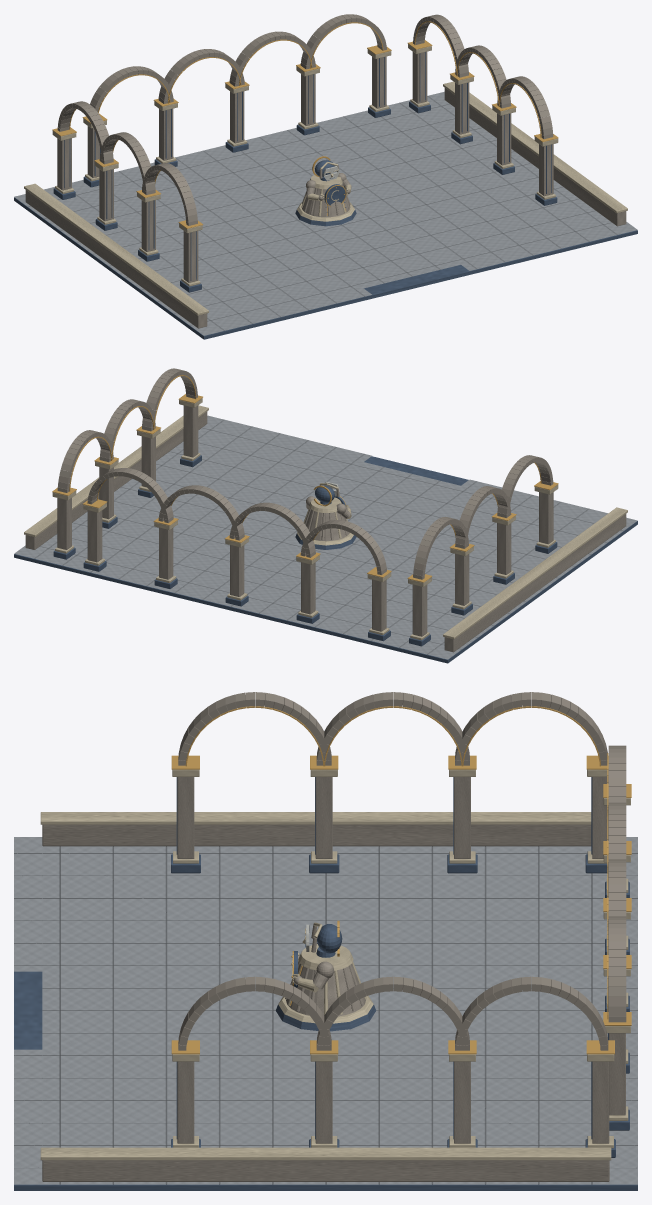
Rendered from moon-sanctum-v01.glb.
The picture shows the model from 3 angles, top to bottom: view 1: azimuth 30°, elevation 25°; view 2: azimuth 150°, elevation 25°; view 3: azimuth 270°, elevation 25°; orthographic projection. The views are drawn at different scales.
Parts seen in each view (by area): view 1: LunarFloor Lunar floor, LunarArcade Lunar stone, LunarArcade Lunar pale, LunarFloor Lunar recess, LunarArcade Lunar recess, LunarArcade Lunar brass, MoonGuardian Lunar stone, MoonGuardian Lunar pale, MoonGuardian Lunar recess; view 2: LunarFloor Lunar floor, LunarArcade Lunar stone, LunarArcade Lunar pale, LunarFloor Lunar recess, LunarArcade Lunar brass, LunarArcade Lunar recess, MoonGuardian Lunar stone, MoonGuardian Lunar pale, MoonGuardian Lunar recess; view 3: LunarFloor Lunar floor, LunarArcade Lunar stone, LunarArcade Lunar pale, LunarFloor Lunar recess, LunarArcade Lunar brass, LunarArcade Lunar recess, MoonGuardian Lunar pale, MoonGuardian Lunar stone, MoonGuardian Lunar recess.
Boxes of the visible parts, <box> form: LunarFloor Lunar floor: <box>14,91,637,335</box>; LunarArcade Lunar stone: <box>25,14,626,328</box>; LunarArcade Lunar pale: <box>24,44,627,315</box>; LunarFloor Lunar recess: <box>14,197,637,339</box>; LunarArcade Lunar recess: <box>53,52,557,292</box>; LunarArcade Lunar brass: <box>52,21,558,228</box>; MoonGuardian Lunar stone: <box>302,165,350,217</box>; MoonGuardian Lunar pale: <box>297,162,354,221</box>; MoonGuardian Lunar recess: <box>295,160,356,226</box>; LunarFloor Lunar floor: <box>14,415,637,659</box>; LunarArcade Lunar stone: <box>25,368,626,652</box>; LunarArcade Lunar pale: <box>24,398,627,640</box>; LunarFloor Lunar recess: <box>14,456,637,663</box>; LunarArcade Lunar brass: <box>52,375,558,582</box>; LunarArcade Lunar recess: <box>53,455,557,646</box>; MoonGuardian Lunar stone: <box>304,484,350,541</box>; MoonGuardian Lunar pale: <box>297,483,353,545</box>; MoonGuardian Lunar recess: <box>295,485,356,549</box>; LunarFloor Lunar floor: <box>14,837,637,1184</box>; LunarArcade Lunar stone: <box>42,692,626,1181</box>; LunarArcade Lunar pale: <box>40,769,630,1160</box>; LunarFloor Lunar recess: <box>14,971,637,1190</box>; LunarArcade Lunar brass: <box>171,706,631,1054</box>; LunarArcade Lunar recess: <box>171,777,629,1157</box>; MoonGuardian Lunar pale: <box>278,922,373,1023</box>; MoonGuardian Lunar stone: <box>285,924,365,1016</box>; MoonGuardian Lunar recess: <box>275,924,376,1031</box>.
Size of the model in its own units: 23.2 by 5.57 by 17.6.
Materials: 6 (5 with a texture image).
